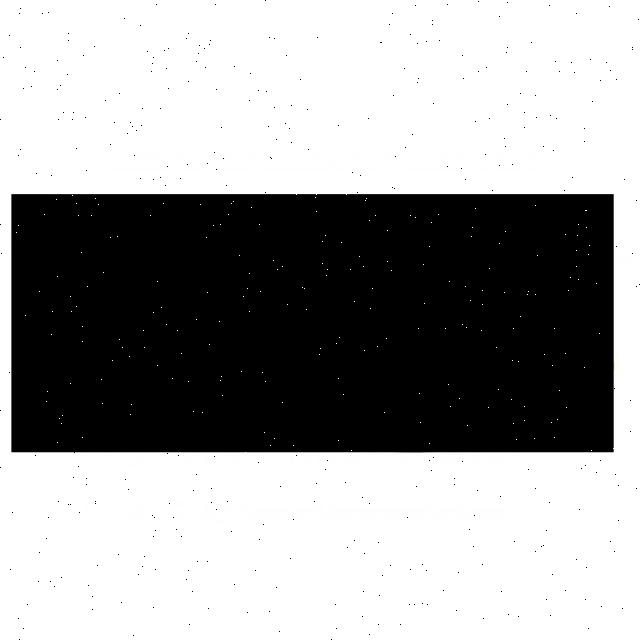Chili_Pepper: (11, 194, 614, 452)
